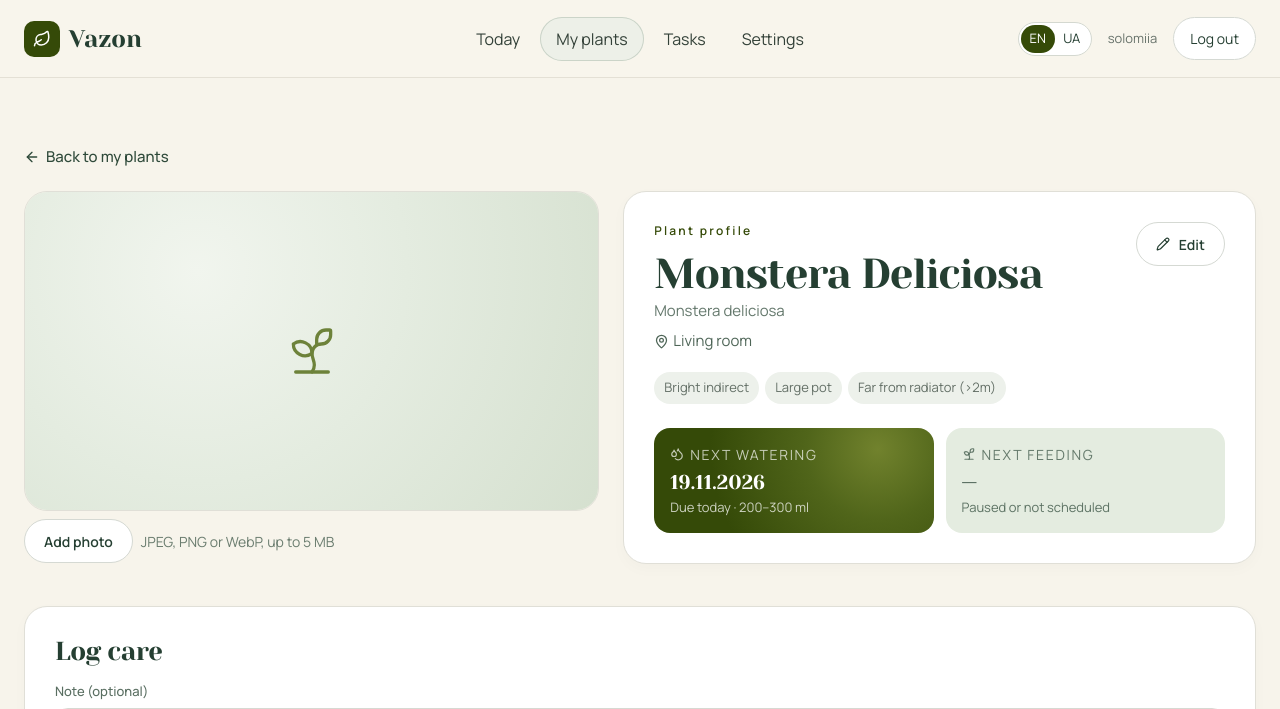
Test: Plant detail & care log flow › edits plant details and persists changes
Expected: the heading "Monstera Deliciosa" is shown, [654,252,1042,296]
Click the button "Edit": click(1180, 244) [1136,222,1225,266]
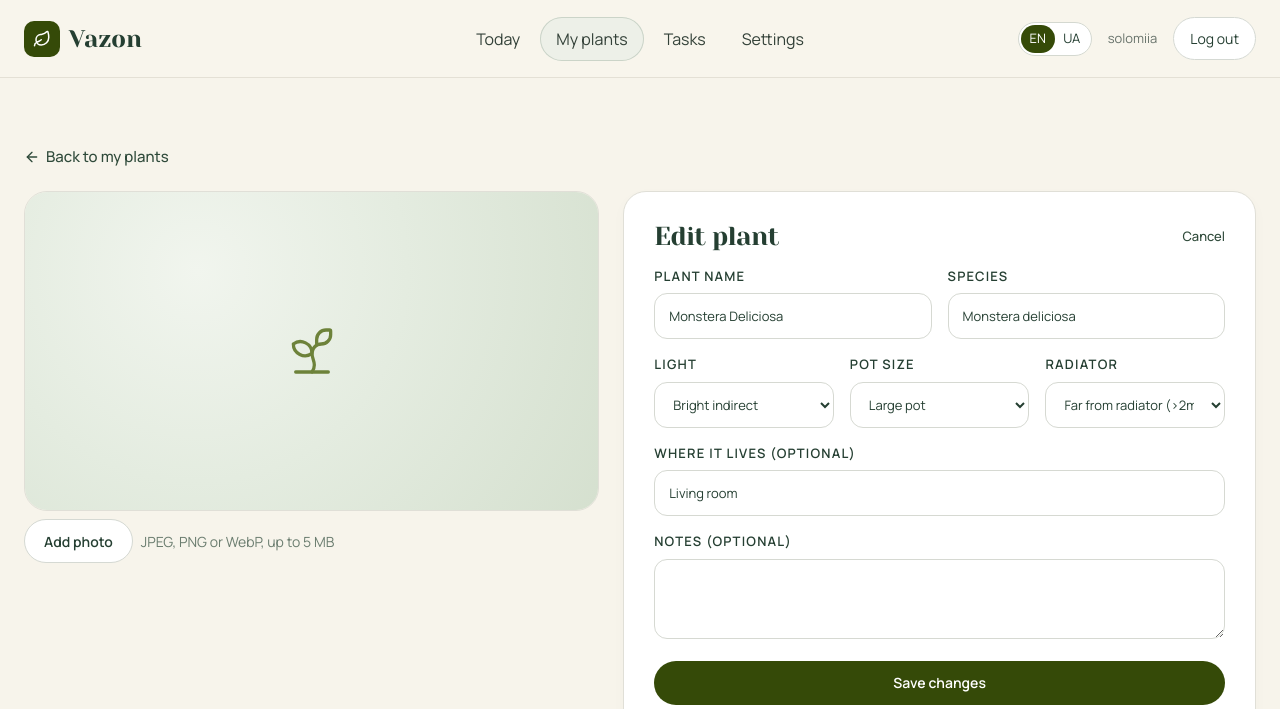
Replace the text in the field labelled "Plant name" with "Big Monstera": (793, 316) [654,293,932,339]
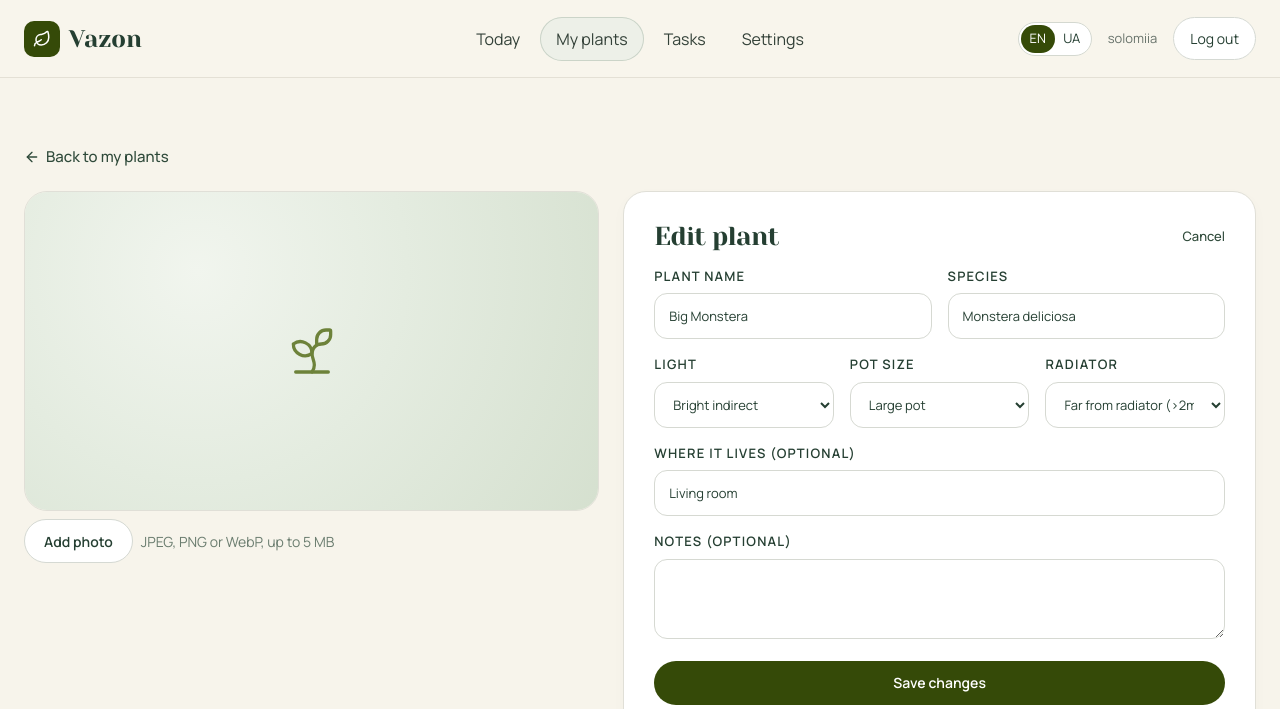
Click the button "Save changes": click(940, 683) [654,661,1225,705]
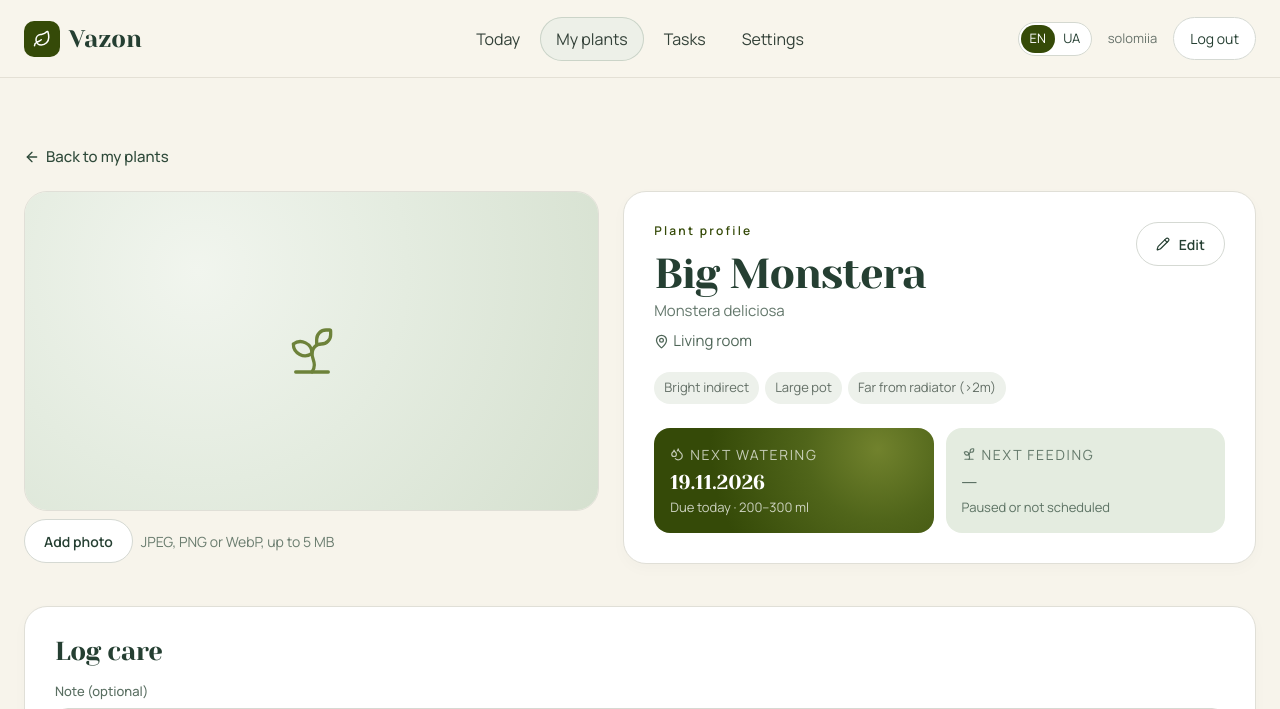
Expected: the heading "Big Monstera" is shown, [654,252,926,296]
